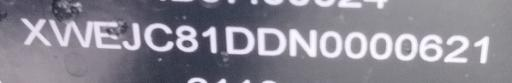letter: (48, 17, 94, 48), (224, 23, 256, 58), (254, 26, 288, 57), (142, 21, 174, 52), (286, 27, 318, 58), (92, 18, 122, 51), (18, 17, 52, 46), (442, 33, 472, 62), (174, 23, 200, 54), (367, 30, 393, 61), (418, 33, 444, 62), (120, 20, 144, 51), (318, 29, 342, 58), (343, 29, 367, 58), (394, 32, 418, 61), (199, 25, 219, 54), (472, 34, 490, 63)
